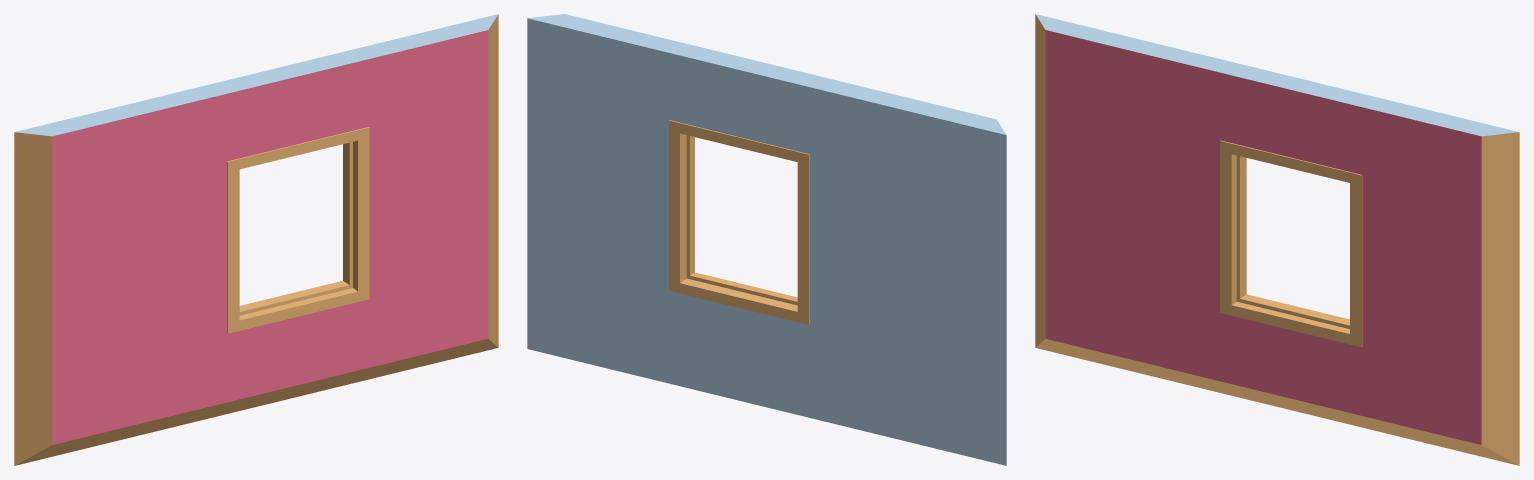
Rendered from Wall.002.fbx.
3 views of the same model, side by side, from view 1: azimuth 30°, elevation 25°; view 2: azimuth 150°, elevation 25°; view 3: azimuth 330°, elevation 25° (orthographic).
Visible parts, largest first — view 1: Wall.002; view 2: Wall.002; view 3: Wall.002.
Boxes of the visible parts, left/top/right/bottom form: Wall.002: left=14, top=14, right=498, bottom=465; Wall.002: left=527, top=14, right=1006, bottom=465; Wall.002: left=1035, top=14, right=1519, bottom=465.
Size of the model in its own units: 505 by 333 by 27.12.
